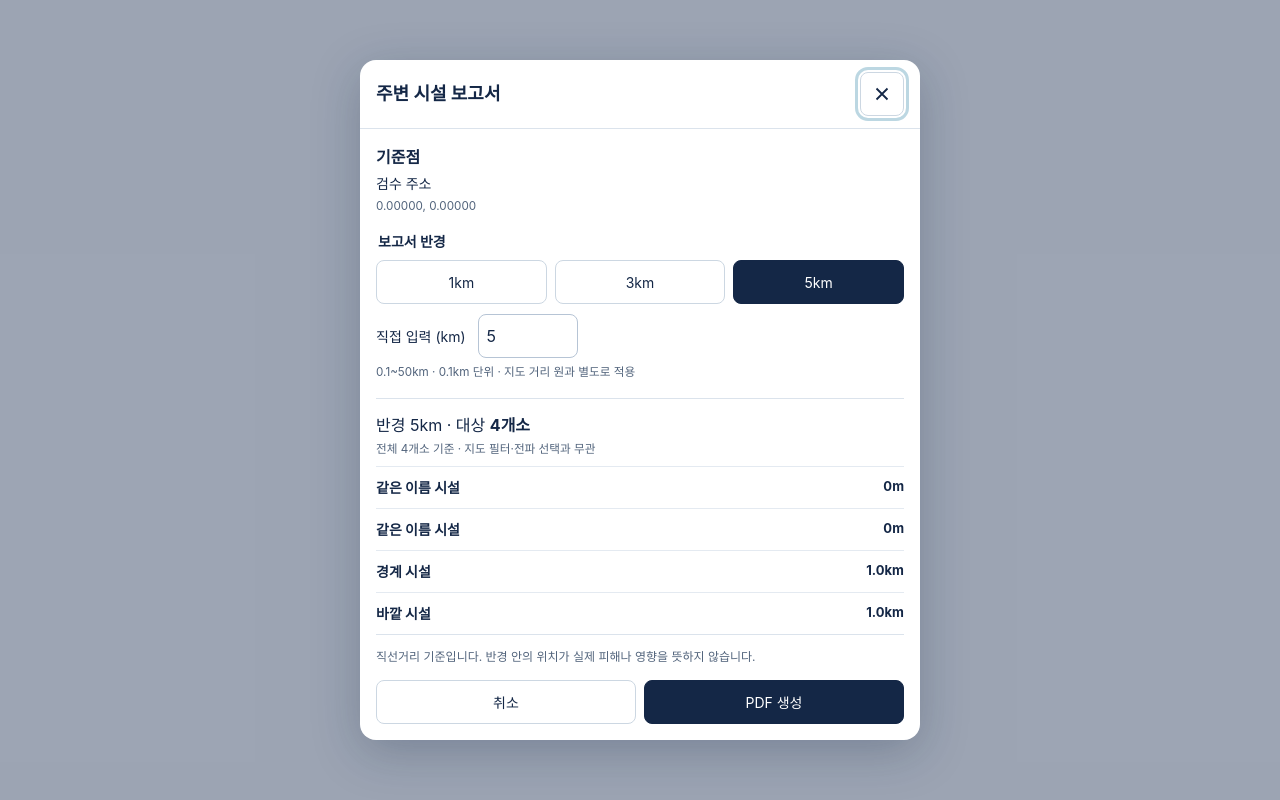
Test: 독립적인 주변 시설 보고서 › 지도 없는 보고서가 발급됐음을 알리고 대상 목록을 유지한다
This screenshot has width=1280, height=800.
Click the button "PDF 생성".
click(774, 702)  # box x1=644 y1=680 x2=904 y2=724
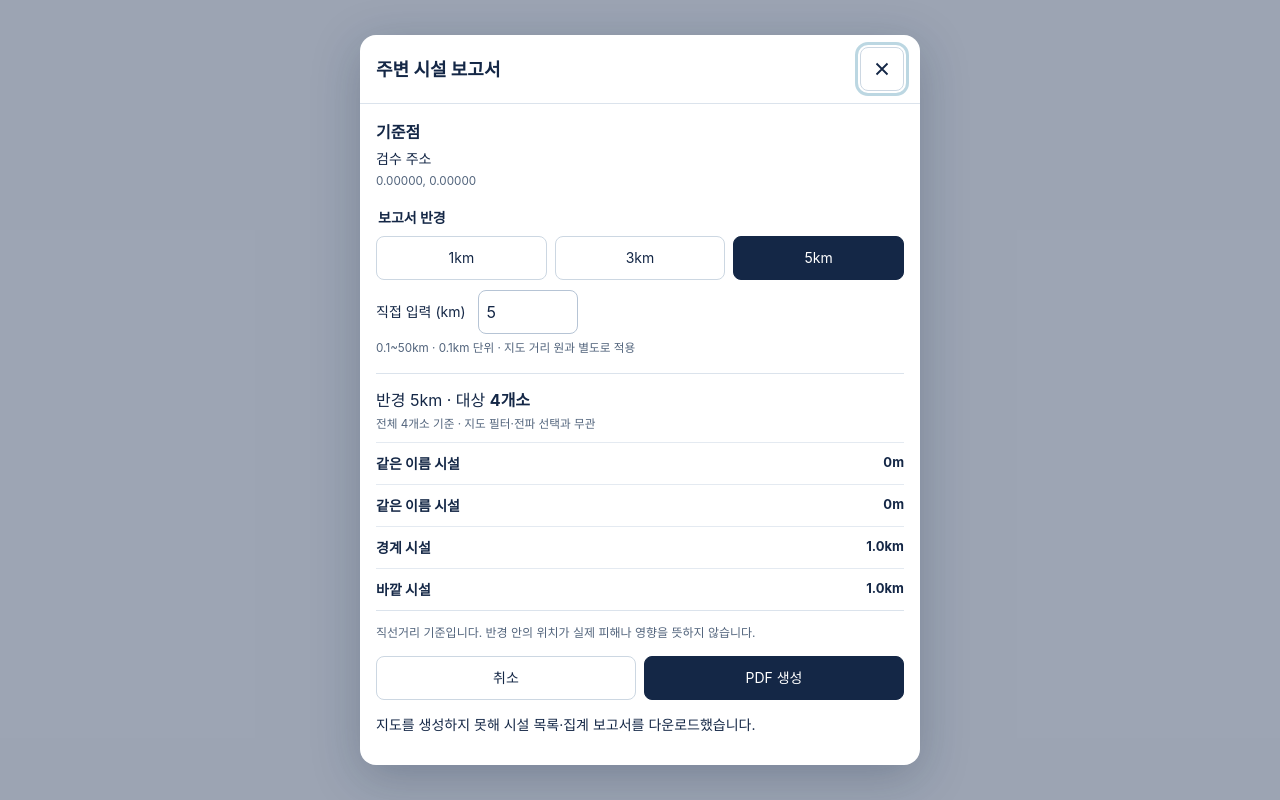
Expected: the text "대상 4개소" is shown, x1=376 y1=373 x2=904 y2=412
Result: the text "시설 목록·집계 보고서를 다운로드했습니다" is shown at x1=376 y1=716 x2=756 y2=733
